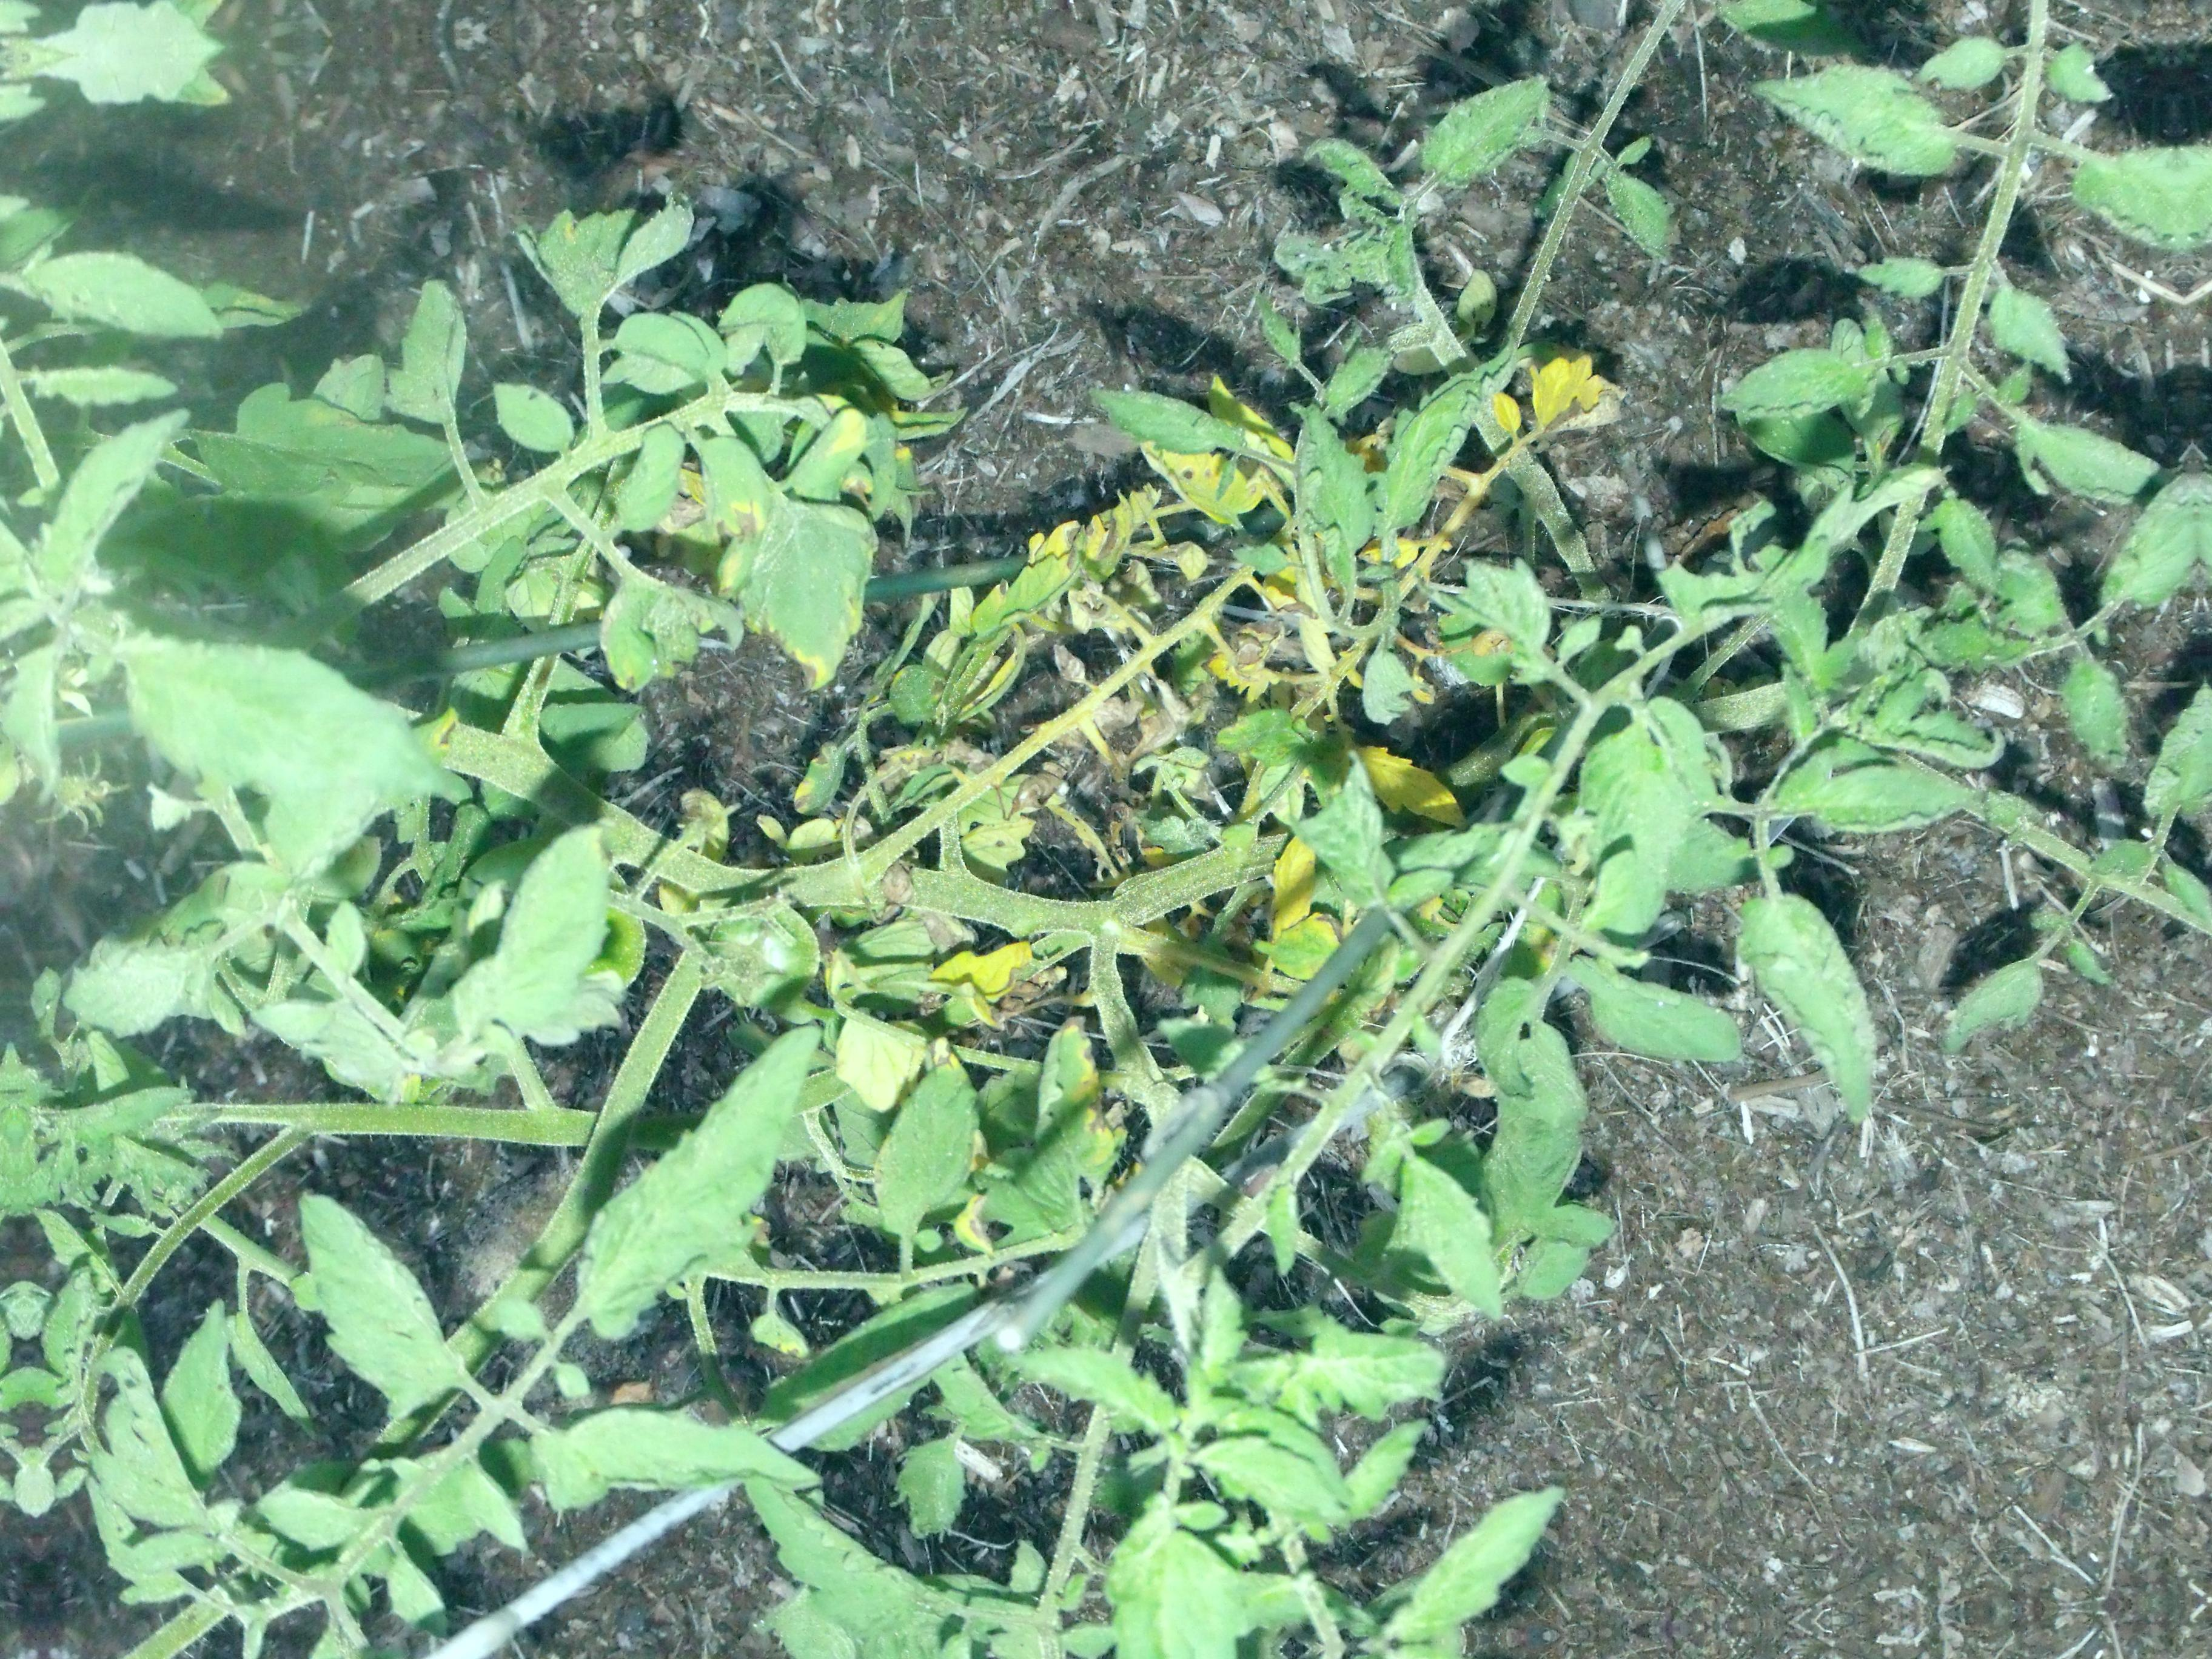Tomato leaf bacterial spot: (543, 1021, 822, 1347), (505, 1378, 840, 1538), (264, 1174, 451, 1454), (446, 811, 634, 1076), (975, 1003, 1159, 1251), (699, 475, 907, 691), (1176, 1300, 1469, 1452), (1335, 1115, 1541, 1322), (1533, 914, 1760, 1087), (1349, 343, 1504, 586), (858, 1024, 1024, 1247), (591, 528, 730, 736)
